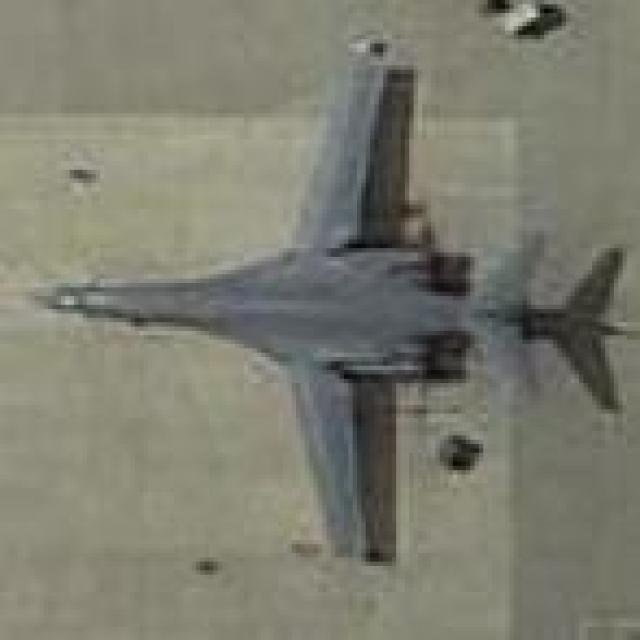B-1_TopDown: (26, 26, 636, 562)
